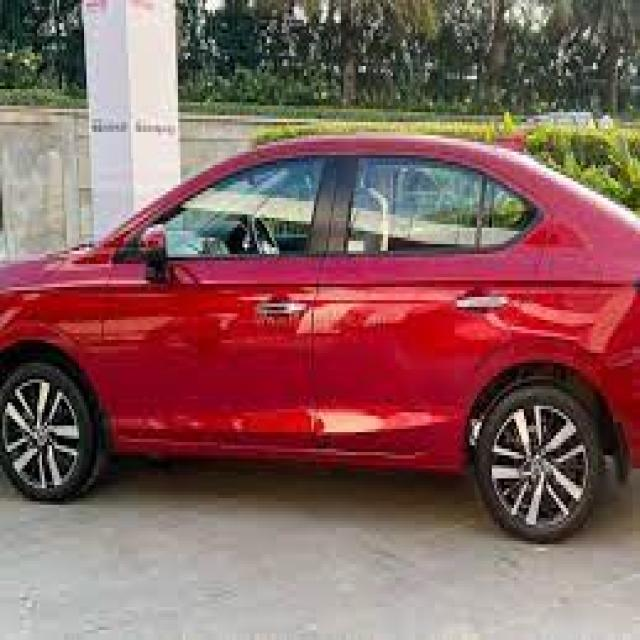Car: (2, 132, 640, 543)
